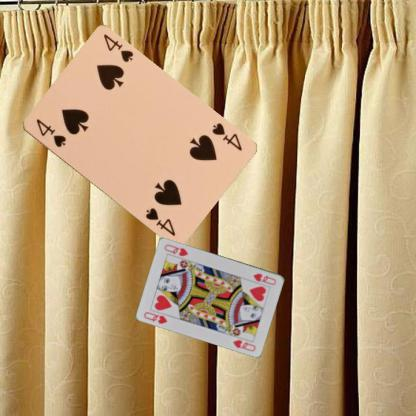4s: (33, 116, 67, 149), (209, 120, 243, 152)
Qh: (251, 270, 277, 286), (142, 309, 168, 325)
